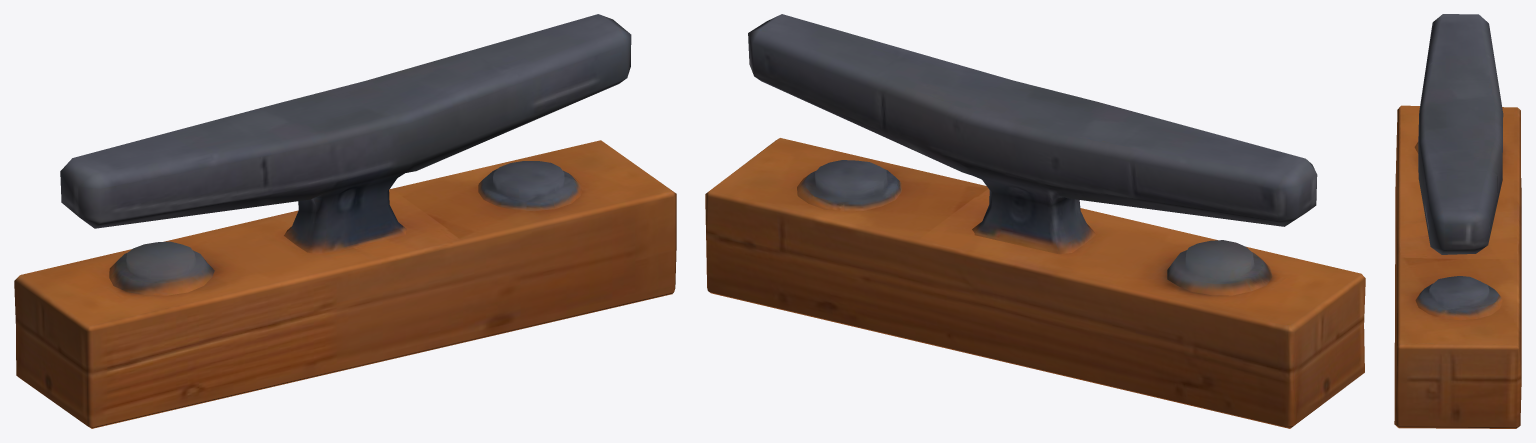
The model's file is cleat.glb.
The picture shows the model from 3 angles, left to right: view 1: azimuth 30°, elevation 25°; view 2: azimuth 150°, elevation 25°; view 3: azimuth 270°, elevation 25°; orthographic projection. The views are drawn at different scales.
Parts seen in each view (by area): view 1: cleat; view 2: cleat; view 3: cleat.
Boxes of the visible parts, x1,y1,x2,y2 form: cleat: (14, 14, 676, 428); cleat: (705, 14, 1365, 428); cleat: (1394, 14, 1521, 428).
Bounding box in the file's own units: 0.8557 × 0.3505 × 0.1939.
1 material, 1 textured.
